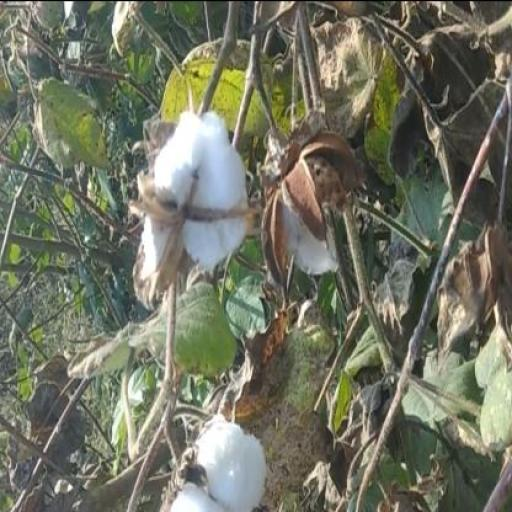cotton_ready: (123, 104, 283, 282)
